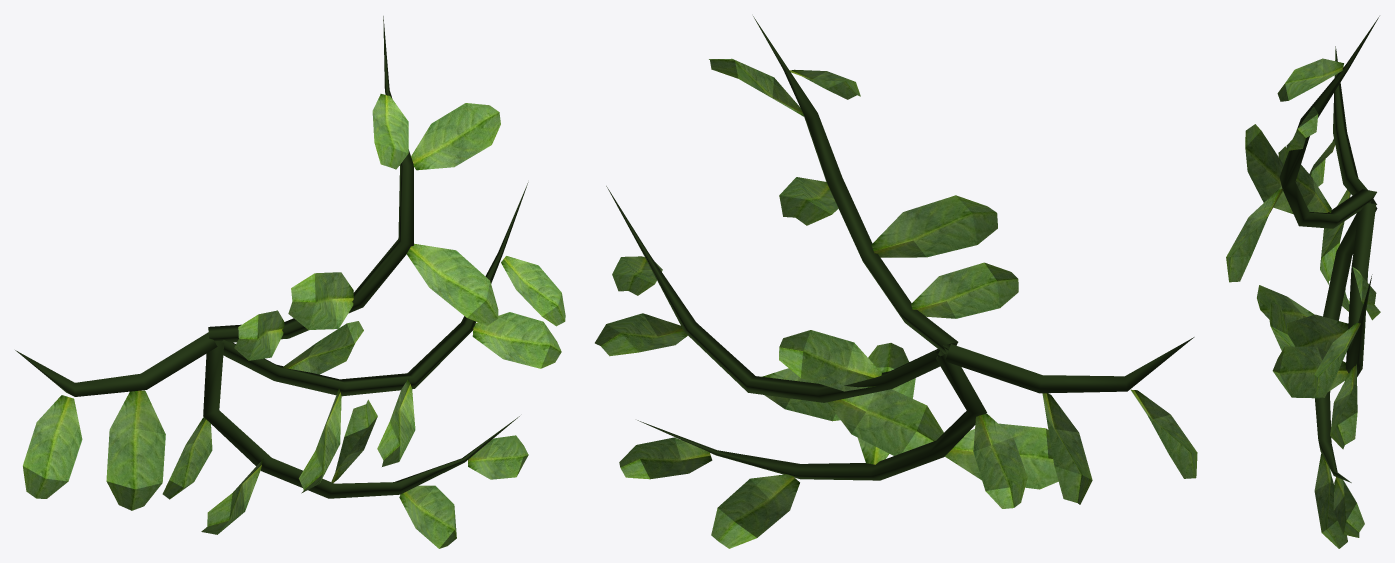
File: polygonum_01.obj
The picture shows the model from 3 angles, left to right: view 1: azimuth 30°, elevation 25°; view 2: azimuth 150°, elevation 25°; view 3: azimuth 270°, elevation 25°; orthographic projection. The views are drawn at different scales.
Visible parts, largest first — view 1: polygonum.003; view 2: polygonum.003; view 3: polygonum.003.
Boxes of the visible parts, x1=… form: polygonum.003: x1=15, y1=16, x2=565, y2=548; polygonum.003: x1=595, y1=16, x2=1197, y2=548; polygonum.003: x1=1226, y1=16, x2=1380, y2=548.
Size of the model in its own units: 0.2552 by 0.2325 by 0.0634.
